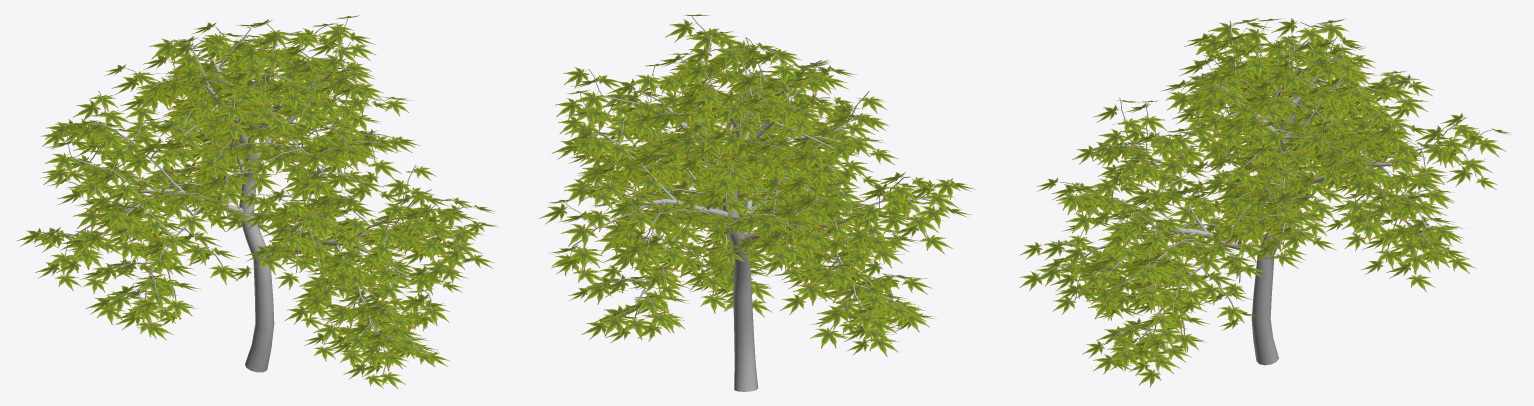
3 views of the same model, side by side, from view 1: azimuth 30°, elevation 25°; view 2: azimuth 150°, elevation 25°; view 3: azimuth 270°, elevation 25° (orthographic). The views are drawn at different scales.
Parts seen in each view (by area): view 1: WGJ_Maple03_02.Shape; view 2: WGJ_Maple03_02.Shape; view 3: WGJ_Maple03_02.Shape.
Part boxes in pixels (<box>): WGJ_Maple03_02.Shape: <box>17,15,499,388</box>; WGJ_Maple03_02.Shape: <box>539,14,976,391</box>; WGJ_Maple03_02.Shape: <box>1019,17,1511,387</box>.
Size of the model in its own units: 1.21 by 0.9825 by 1.39.
3 materials, 1 textured.
